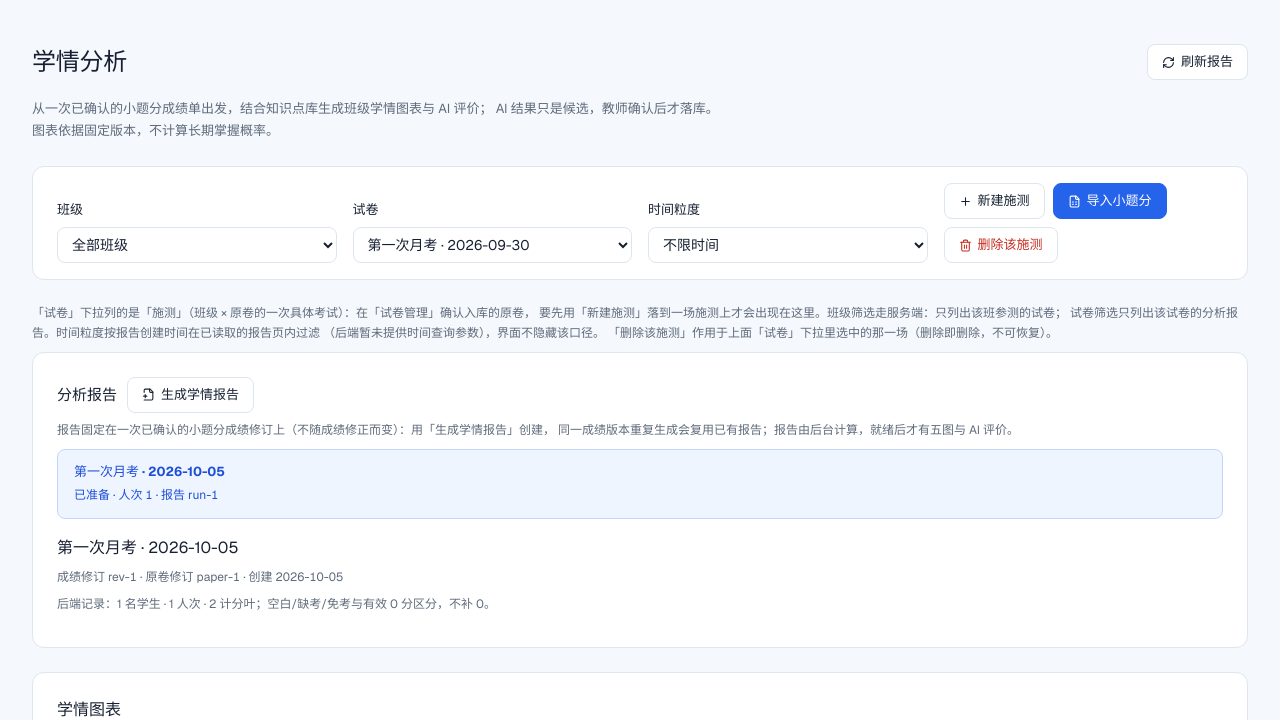
Scenario: 学情分析：删除施测（R10-BE 施测=成绩链所有者） › 删除成功：二次确认点名后果 → DELETE 带 expectedRevision → 回执逐项列出级联计数并清空筛选
The image size is (1280, 720).
Click the button with test id "la-assessment-delete" at (1000,245), box [944,227,1058,263]
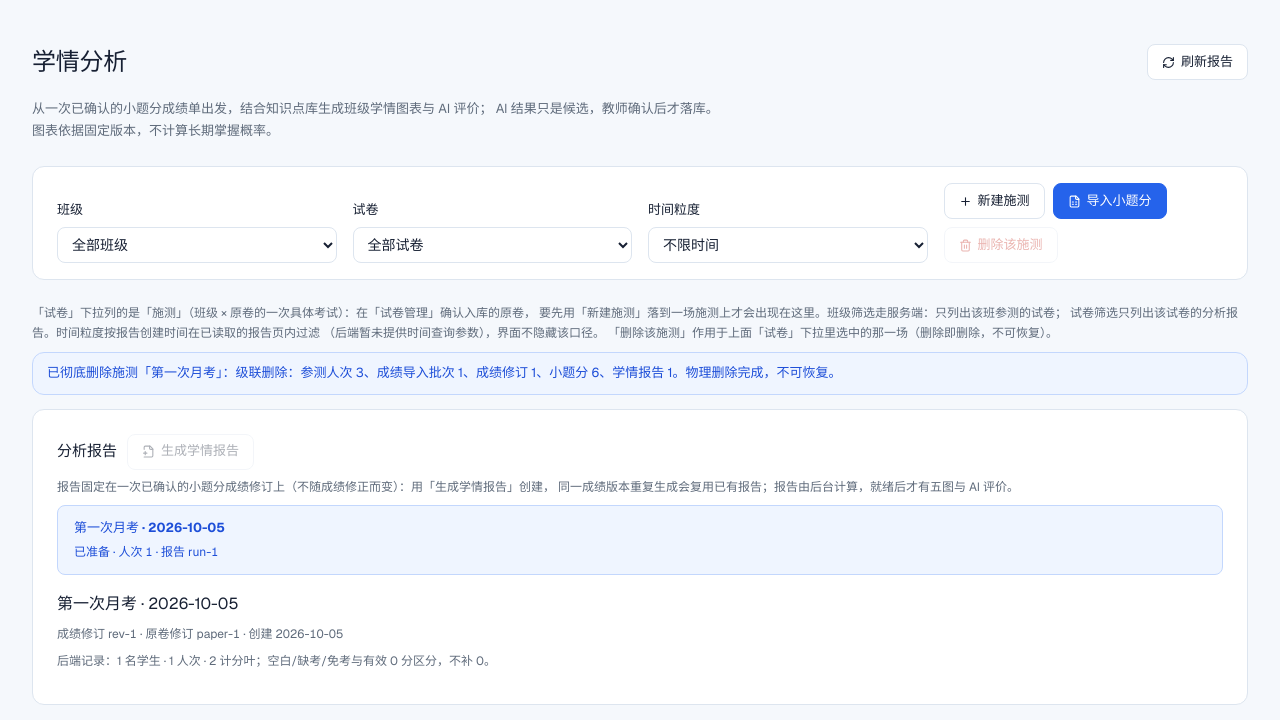
Expected: the message with test id "la-assessment-delete-receipt" shows "已彻底删除施测「第一次月考」", [47,364,841,381]
Expected: the message with test id "la-assessment-delete-receipt" shows "参测人次 3", [47,364,841,381]
Expected: the message with test id "la-assessment-delete-receipt" shows "成绩导入批次 1", [47,364,841,381]
